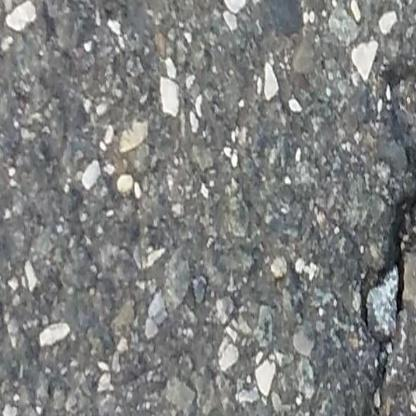Cracks: (358, 166, 416, 333), (369, 338, 394, 416)
